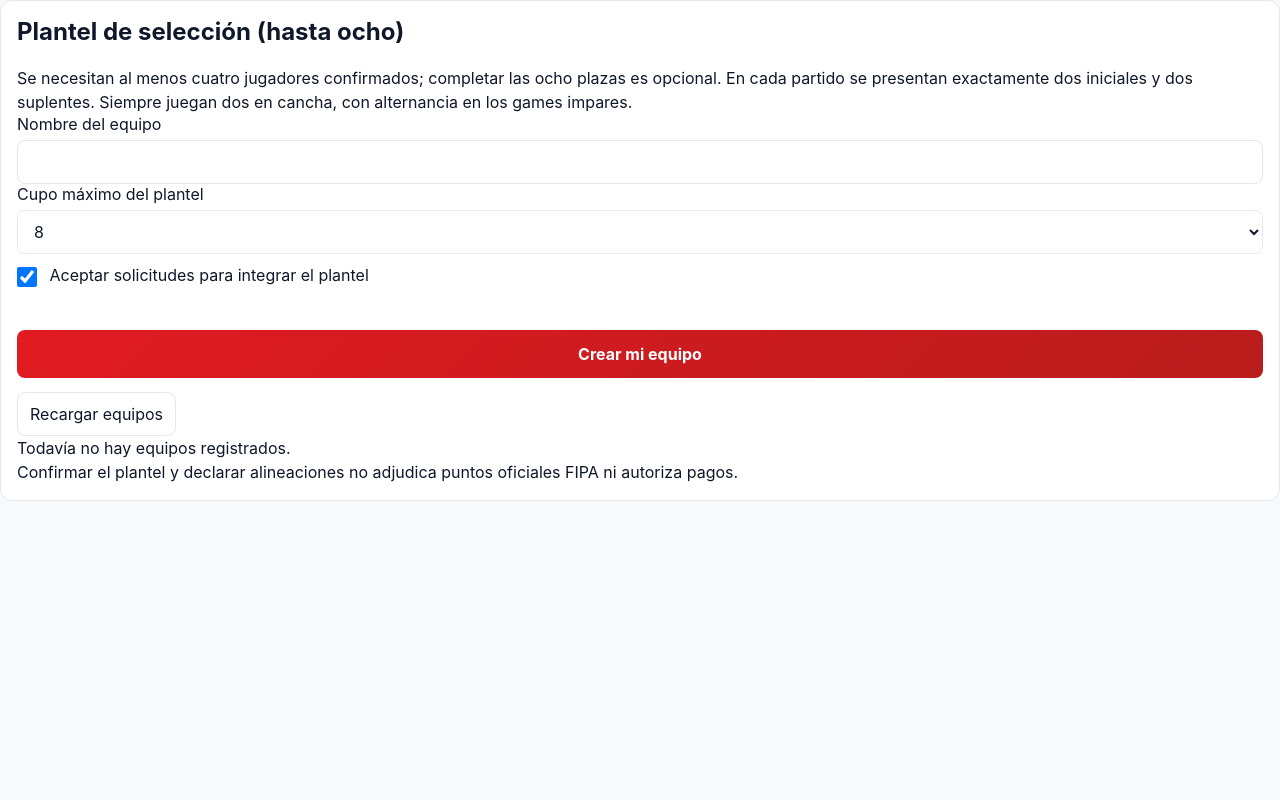
Test: creation in abierto uses only tournament roster fields, never participant names or payment payloads
Type "Selección QA" into the field labelled "Nombre del equipo". click: (640, 162)
box: 17,140 -> 1263,184
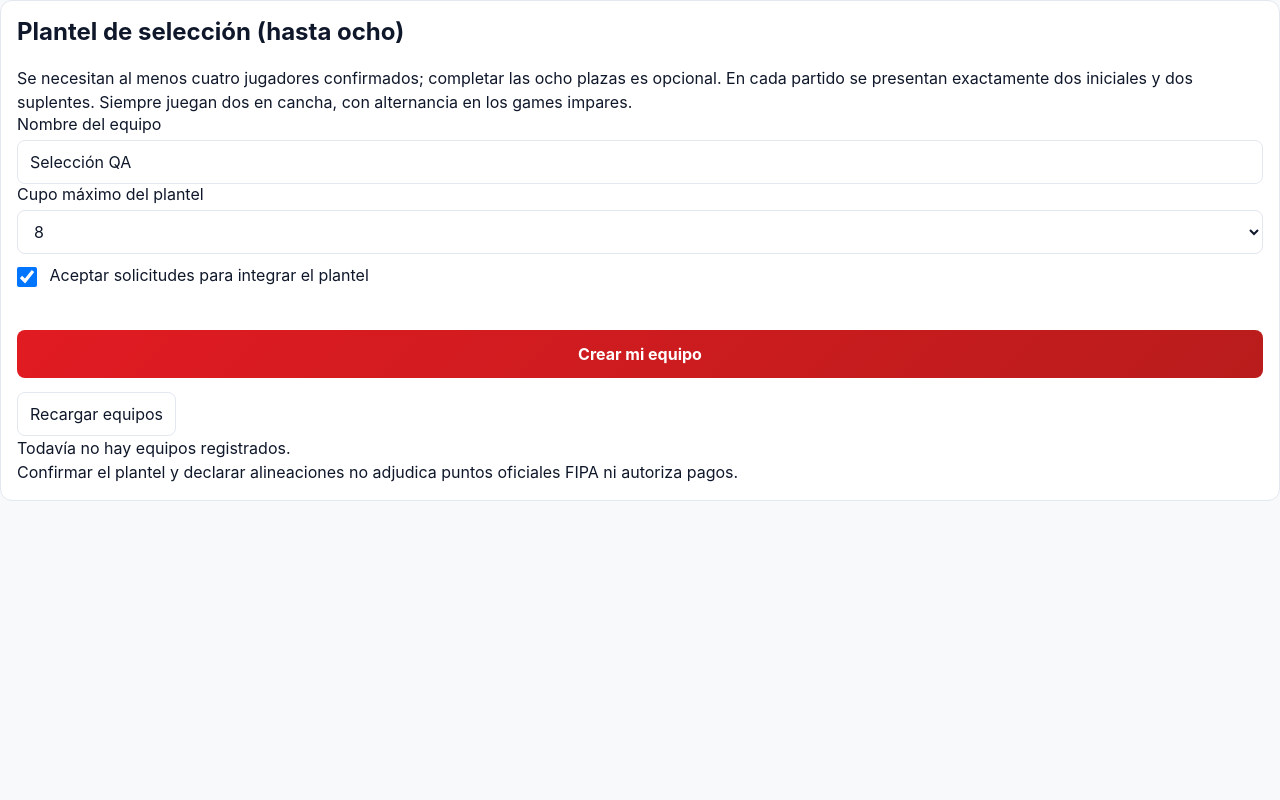
Submit the form named "Crear equipo de selección", box 17,114 -> 1263,378
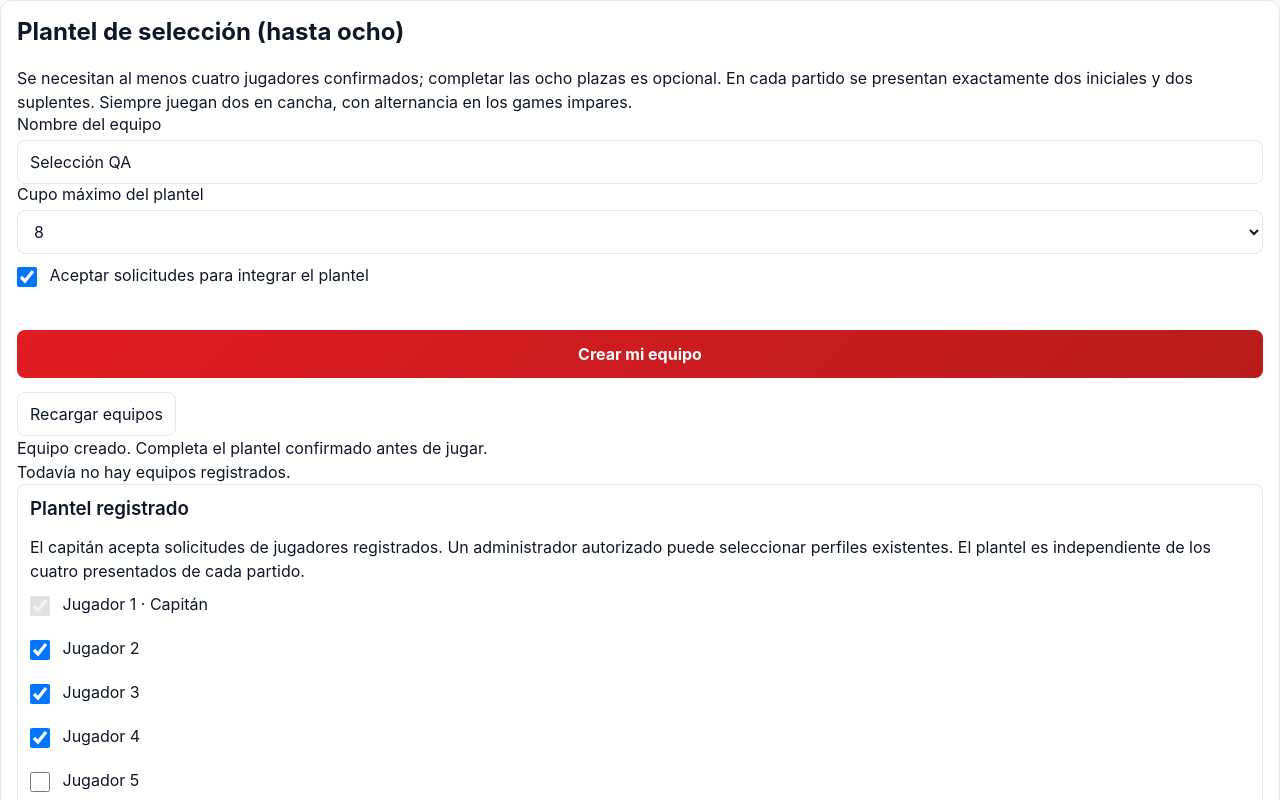
Expected: the text "Equipo creado. Completa el plantel confirmado antes de jugar." is shown, 17,438 -> 488,458
